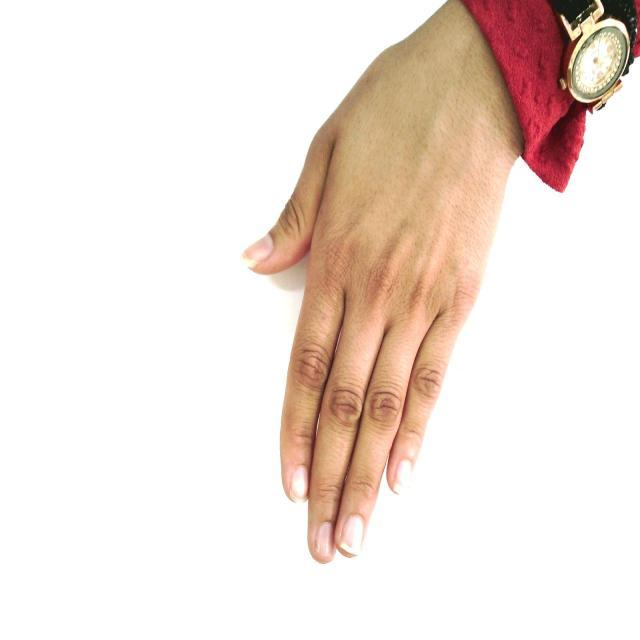Fingernail: (241, 233, 275, 270), (339, 516, 365, 555), (393, 459, 412, 495), (315, 523, 332, 560), (291, 466, 307, 501)
